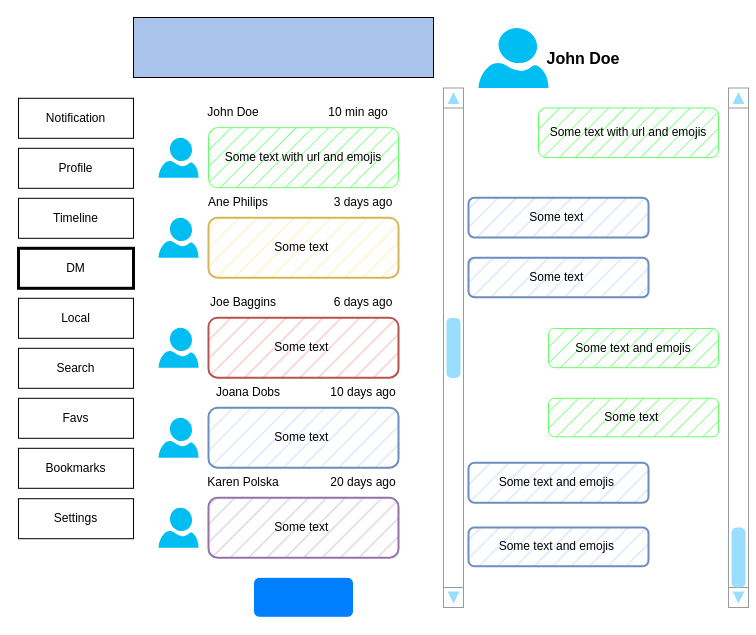
The diagram is 756 pixels wide and 635 high, and some of its shapes have lost their labels. The box of each missing label's shape, as (x1, y1, x2, y2) in pixels:
Direct messages: (132, 16, 434, 78)
Send Dm: (252, 576, 354, 617)
